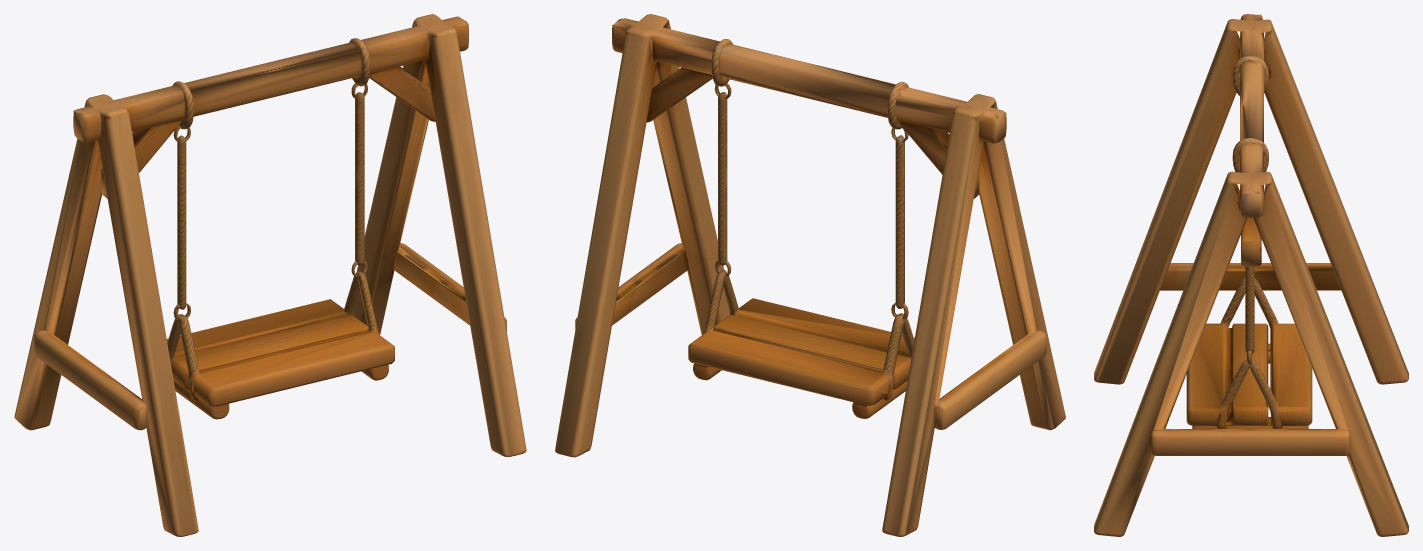
Rendered from Outdoor__a_wooden_swing_set_11904fb3_v3.cluster.glb.
3 renders of one model, left to right at view 1: azimuth 30°, elevation 25°; view 2: azimuth 150°, elevation 25°; view 3: azimuth 270°, elevation 25°, orthographic. The views are drawn at different scales.
Visible parts, largest first — view 1: material; view 2: material; view 3: material.
Boxes of the visible parts, <box> form: material: <box>14,14,526,536</box>; material: <box>555,14,1065,536</box>; material: <box>1094,14,1408,536</box>.
Bounding box in the file's own units: 1.9 × 1.78 × 1.41.
1 material, 1 textured.
